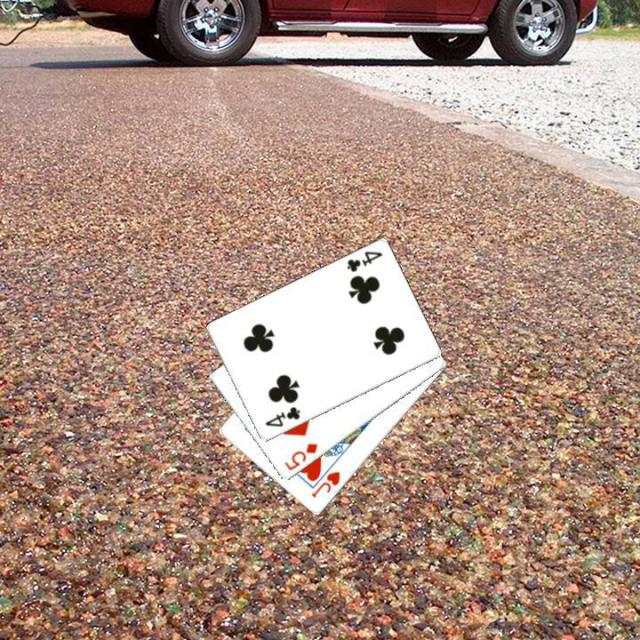4C: (342, 248, 384, 275), (262, 403, 302, 429)
5D: (280, 439, 319, 473)
JH: (308, 468, 342, 500)
